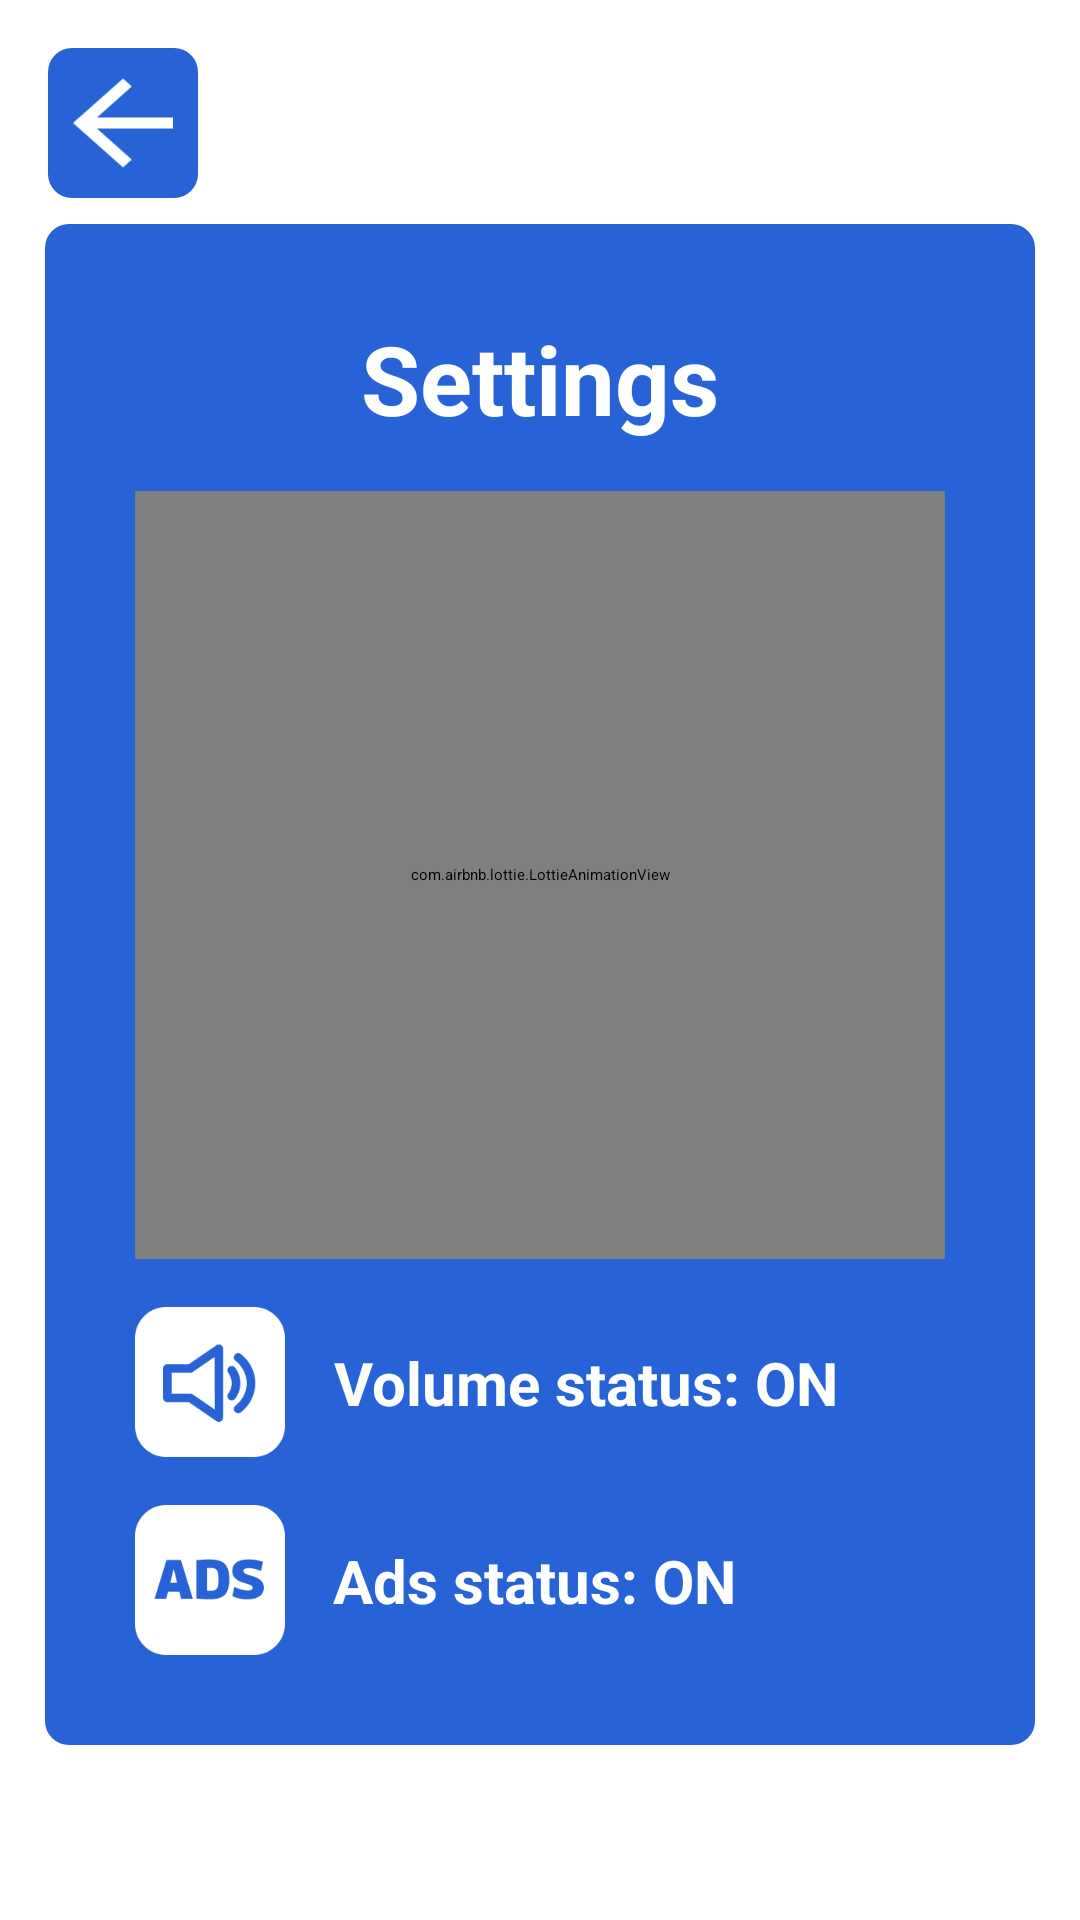

Icon bounding boxes for this 1080*1920 phone screenshot, format (x1, y1, x2, y2):
back: (48, 48, 198, 198)
item volume: (135, 1307, 285, 1457)
